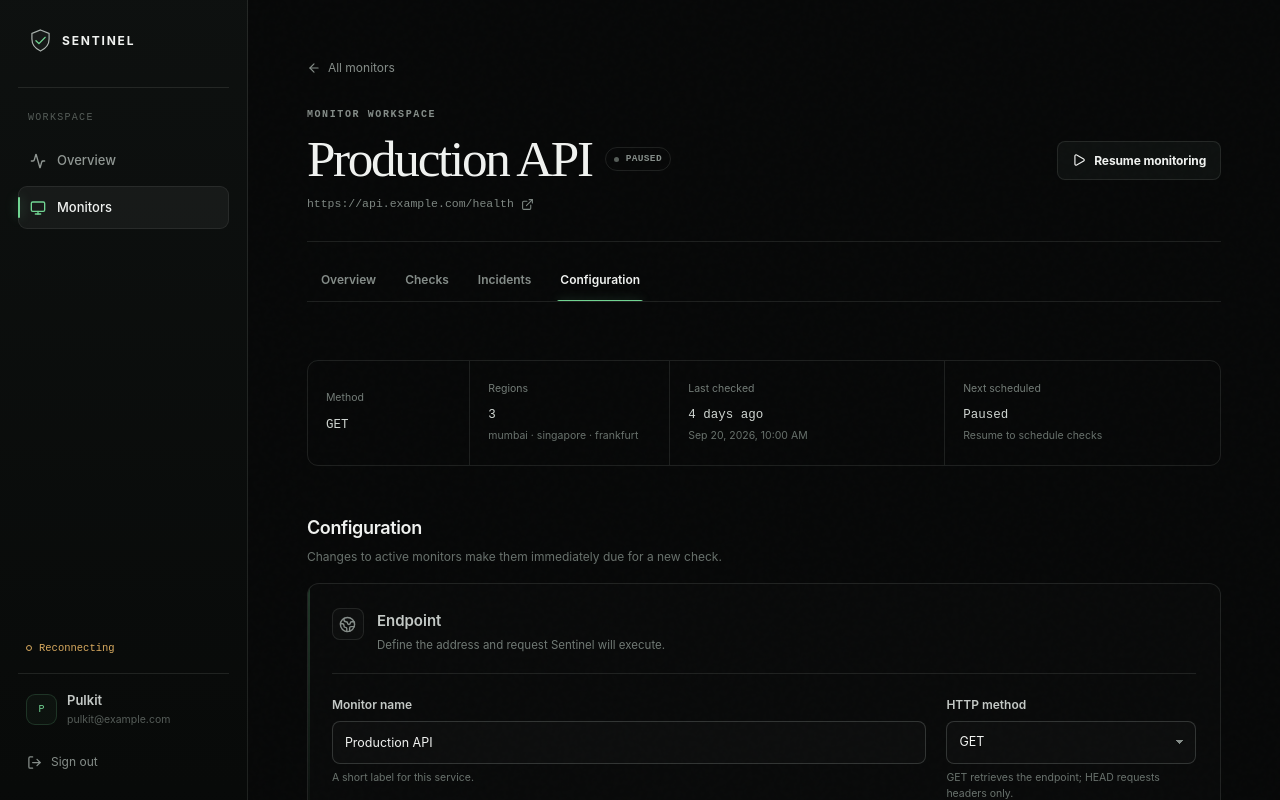
Test: Sentinel monitor workspace › uses the dedicated resume endpoint for a paused monitor
Expected: the heading "Production API" is shown, [307,133,592,185]
Click the button "Resume monitoring".
click(1139, 160)  # box [1057,141,1221,180]
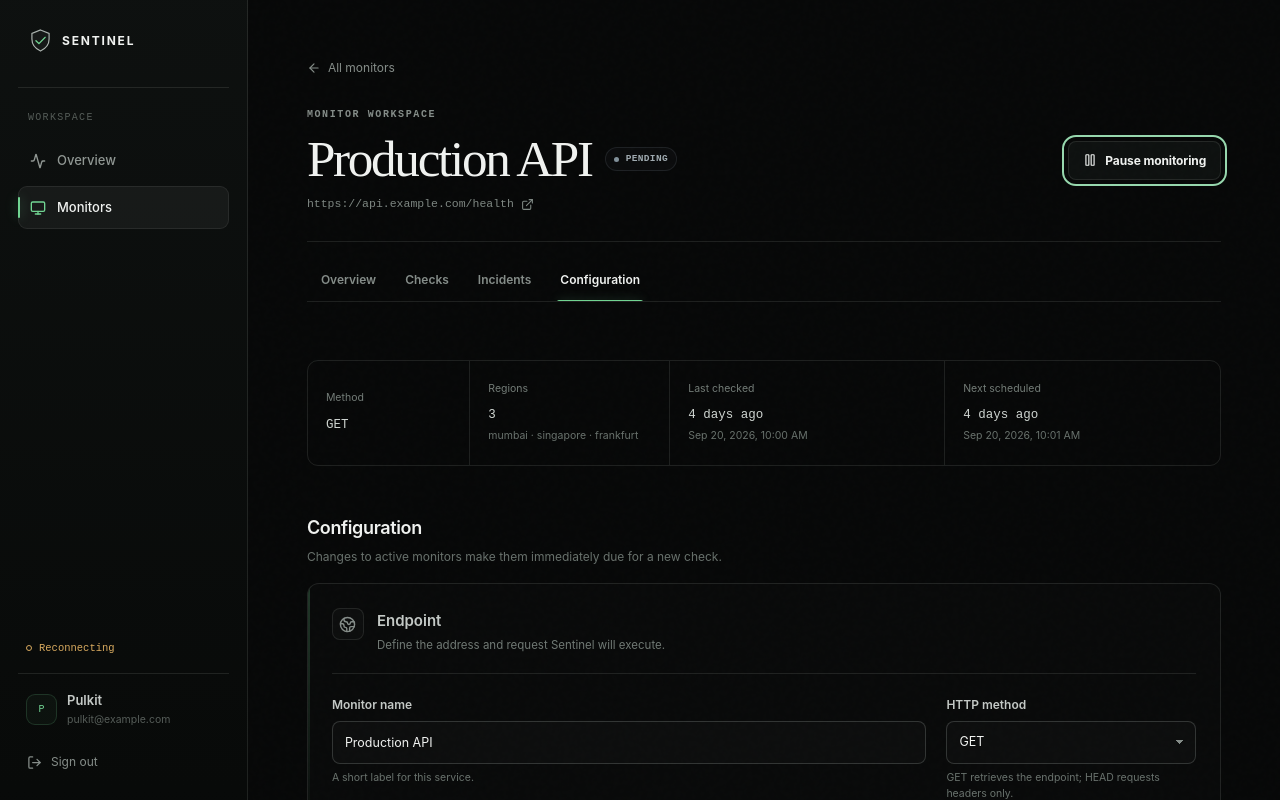
Now the button "Pause monitoring" is shown, box [1068,141,1221,180]
